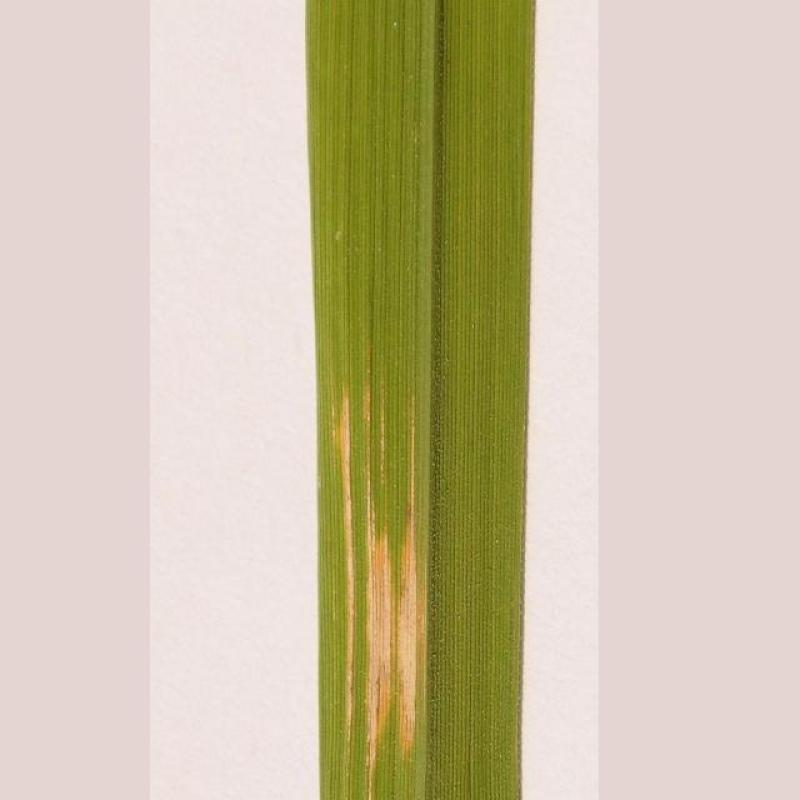Bacterial_Leaf_Blight: (292, 352, 472, 800)
